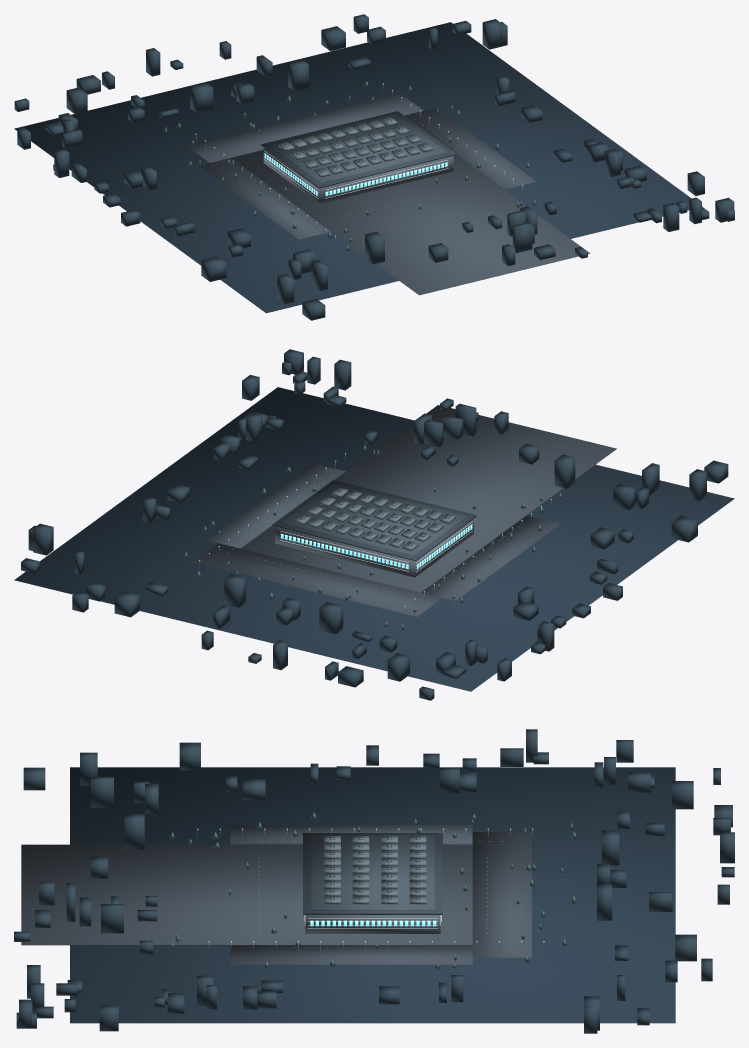
Rendered from exterior.glb.
3 views of the same model, one above another, from view 1: azimuth 30°, elevation 25°; view 2: azimuth 150°, elevation 25°; view 3: azimuth 270°, elevation 25° (orthographic). The views are drawn at different scales.
Parts seen in each view (by area): view 1: exterior_node_0002, exterior_node_0003, exterior_node_0004, exterior_node_0009, exterior_node_0005, exterior_node_0006, exterior_node_0007, exterior_node_0008, exterior_node_0648, exterior_node_0668, exterior_node_0602, exterior_node_0609 (+4 smaller); view 2: exterior_node_0002, exterior_node_0003, exterior_node_0004, exterior_node_0009, exterior_node_0005, exterior_node_0006, exterior_node_0007, exterior_node_0008, exterior_node_0648, exterior_node_0602, exterior_node_0668, exterior_node_0638 (+2 smaller); view 3: exterior_node_0002, exterior_node_0003, exterior_node_0004, exterior_node_0009, exterior_node_0006, exterior_node_0005, exterior_node_0008, exterior_node_0007, exterior_node_0602, exterior_node_0612, exterior_node_0636, exterior_node_0599 (+10 smaller).
Part boxes in pixels (x1=…): exterior_node_0002: x1=14, y1=22, x2=702, y2=313; exterior_node_0003: x1=231, y1=150, x2=590, y2=295; exterior_node_0004: x1=185, y1=92, x2=423, y2=162; exterior_node_0009: x1=269, y1=114, x2=447, y2=183; exterior_node_0005: x1=198, y1=158, x2=330, y2=239; exterior_node_0006: x1=404, y1=108, x2=536, y2=189; exterior_node_0007: x1=263, y1=148, x2=453, y2=203; exterior_node_0008: x1=260, y1=111, x2=456, y2=188; exterior_node_0648: x1=190, y1=83, x2=213, y2=113; exterior_node_0668: x1=288, y1=60, x2=308, y2=91; exterior_node_0602: x1=365, y1=231, x2=384, y2=264; exterior_node_0609: x1=482, y1=19, x2=502, y2=49; exterior_node_0002: x1=14, y1=387, x2=734, y2=691; exterior_node_0003: x1=241, y1=405, x2=616, y2=592; exterior_node_0004: x1=193, y1=543, x2=442, y2=616; exterior_node_0009: x1=281, y1=483, x2=467, y2=555; exterior_node_0005: x1=422, y1=515, x2=560, y2=600; exterior_node_0006: x1=206, y1=463, x2=345, y2=548; exterior_node_0007: x1=275, y1=519, x2=473, y2=577; exterior_node_0008: x1=272, y1=480, x2=476, y2=560; exterior_node_0648: x1=319, y1=602, x2=343, y2=634; exterior_node_0602: x1=554, y1=454, x2=575, y2=488; exterior_node_0668: x1=224, y1=574, x2=245, y2=607; exterior_node_0638: x1=671, y1=515, x2=697, y2=542; exterior_node_0002: x1=70, y1=767, x2=675, y2=1023; exterior_node_0003: x1=21, y1=844, x2=472, y2=945; exterior_node_0004: x1=472, y1=832, x2=531, y2=957; exterior_node_0009: x1=311, y1=835, x2=434, y2=910; exterior_node_0006: x1=230, y1=945, x2=472, y2=964; exterior_node_0005: x1=230, y1=825, x2=472, y2=844; exterior_node_0008: x1=303, y1=833, x2=442, y2=914; exterior_node_0007: x1=305, y1=915, x2=440, y2=933; exterior_node_0602: x1=124, y1=814, x2=144, y2=849; exterior_node_0612: x1=91, y1=777, x2=113, y2=808; exterior_node_0636: x1=101, y1=904, x2=123, y2=933; exterior_node_0599: x1=671, y1=781, x2=693, y2=809.
Size of the model in its own units: 276 by 14.02 by 304.
